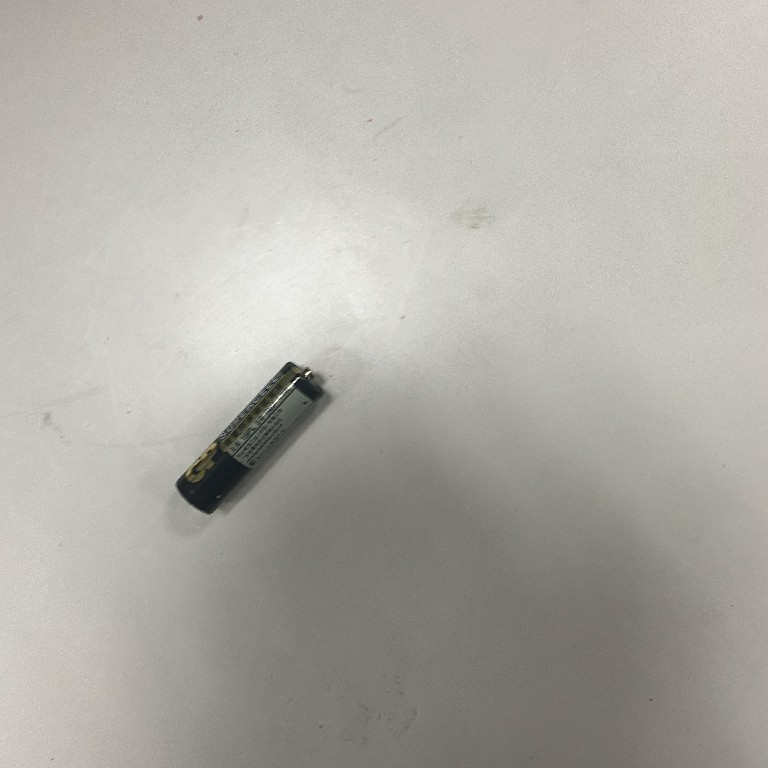charge: (172, 358, 329, 519)
